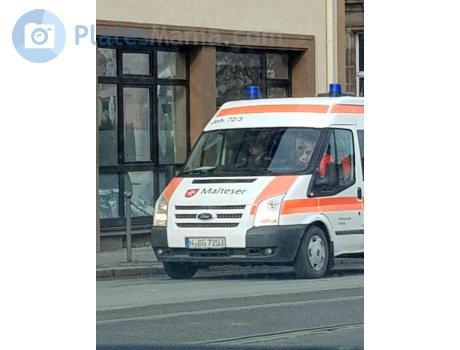License Plates: (187, 237, 223, 246)
